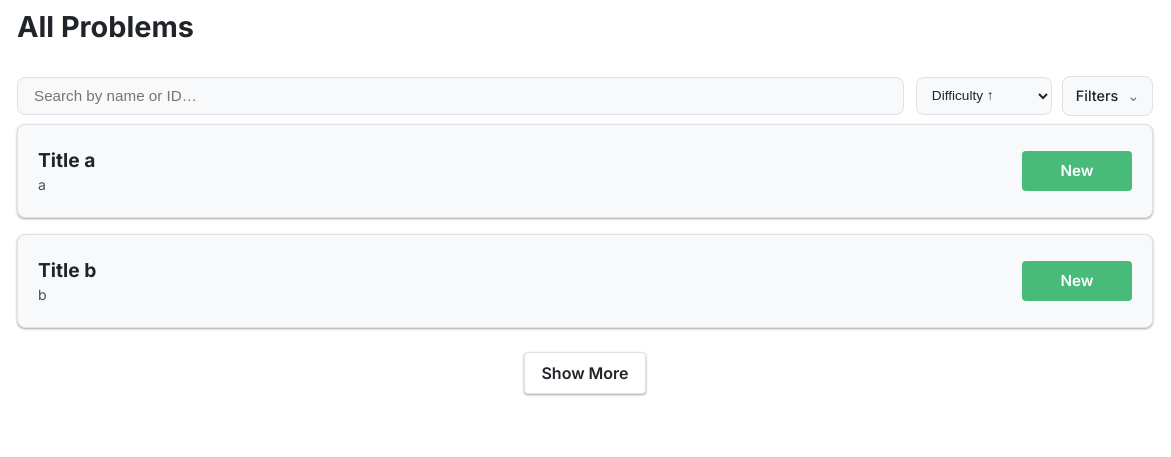
Test: Problems Page › Show More (incremental loading) › appends the next batch when Show More is clicked
This screenshot has width=1171, height=457.
Check: the heading "Title a" is shown, box left=38, top=148, right=95, bottom=172
Click the button "Show More": coordinates (585, 373) left=524, top=352, right=646, bottom=394
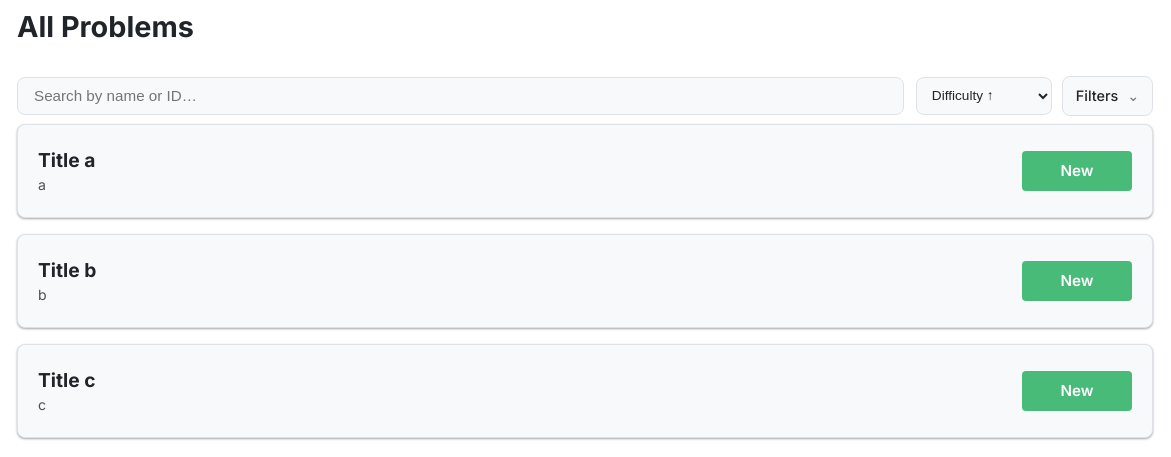
Check: the heading "Title a" is shown, box left=38, top=148, right=95, bottom=172
Check: the heading "Title c" is shown, box left=38, top=368, right=96, bottom=392
